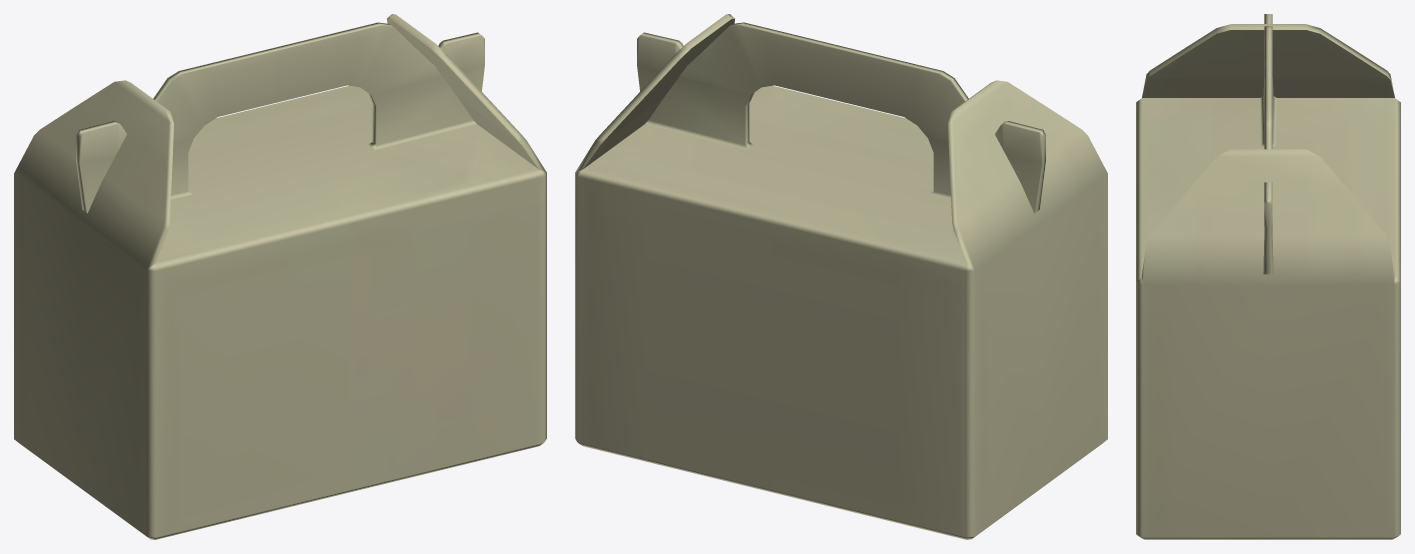
The picture shows the model from 3 angles, left to right: view 1: azimuth 30°, elevation 25°; view 2: azimuth 150°, elevation 25°; view 3: azimuth 270°, elevation 25°; orthographic projection. The views are drawn at different scales.
Bounding box in the file's own units: 6.23 × 5.82 × 3.71.
Materials: 1 (1 with a texture image).
